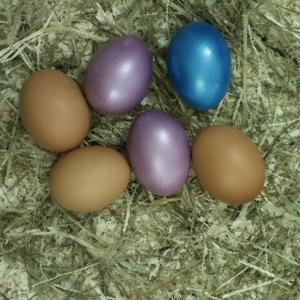egg: (192, 125, 266, 203), (20, 71, 90, 153), (83, 36, 154, 115), (168, 24, 231, 112), (50, 147, 130, 212), (129, 112, 189, 195)
